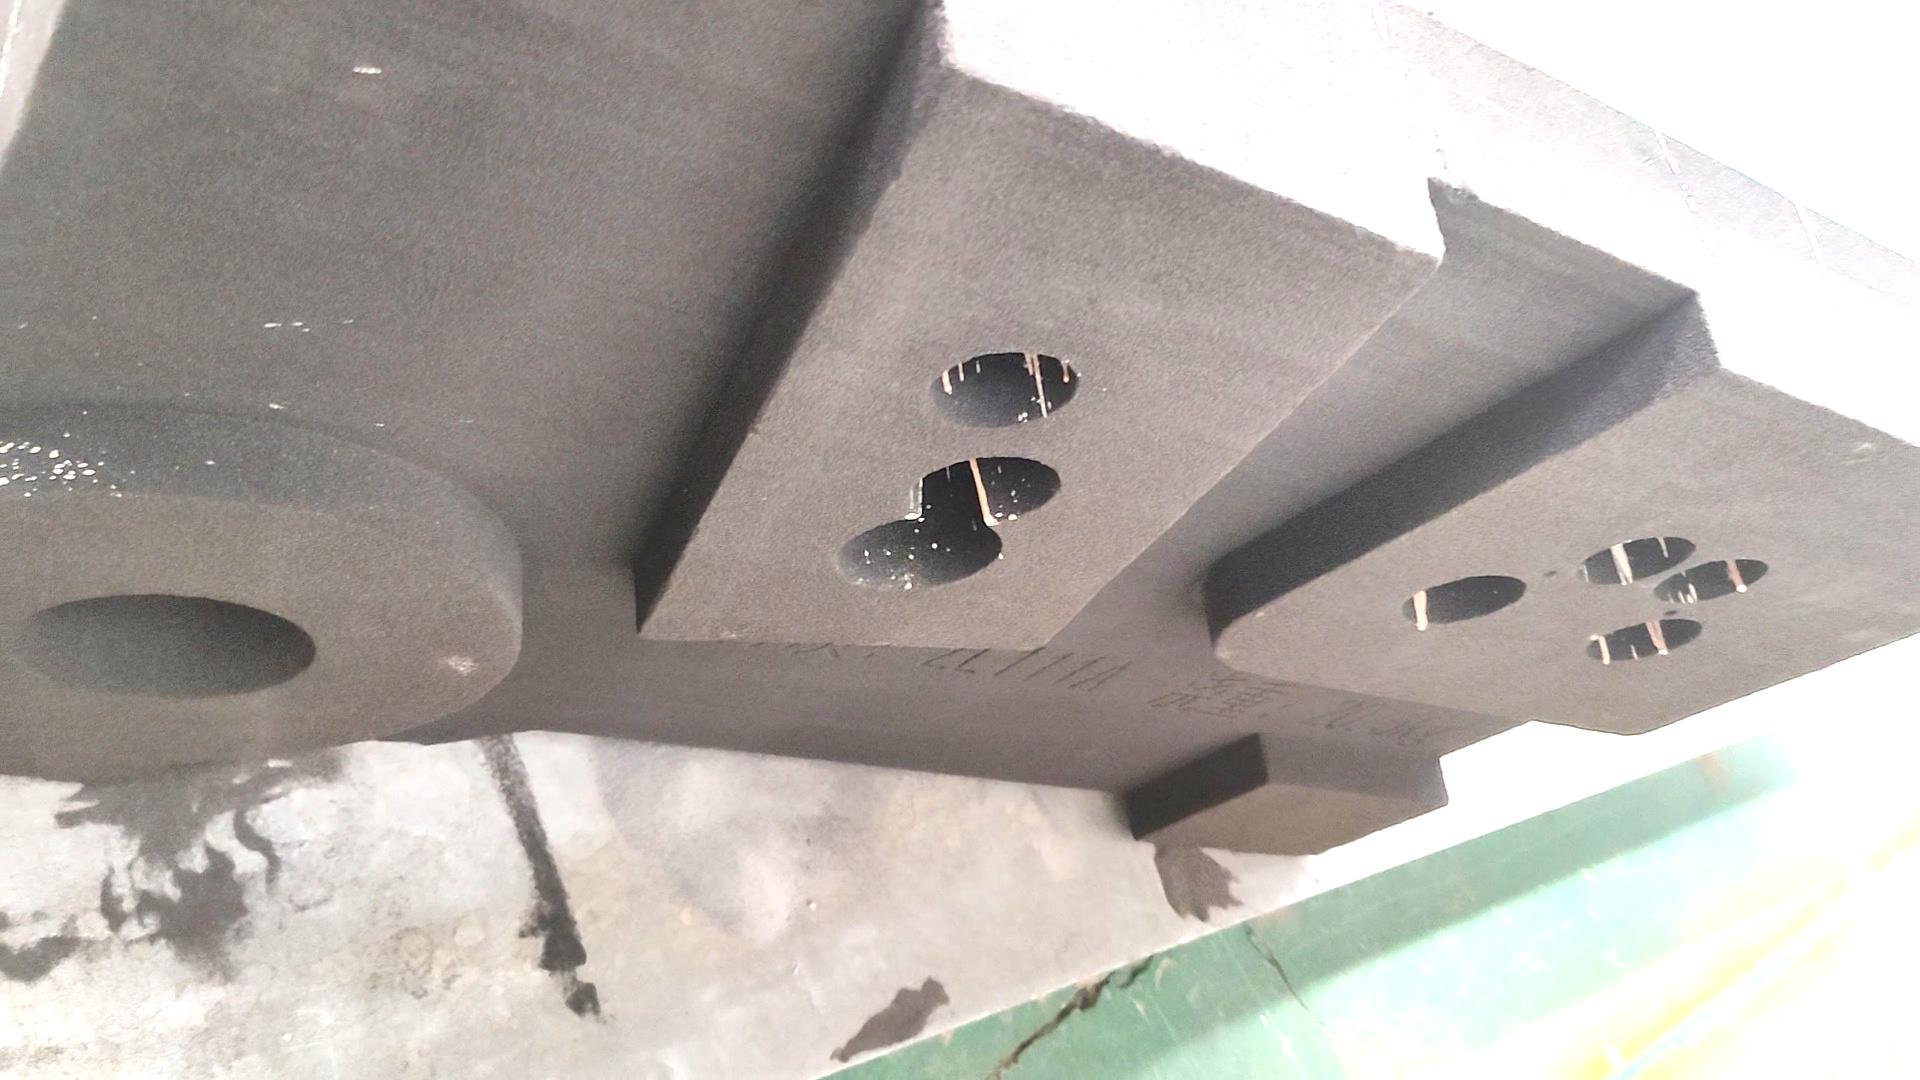pouring hole: (11, 595, 318, 698)
